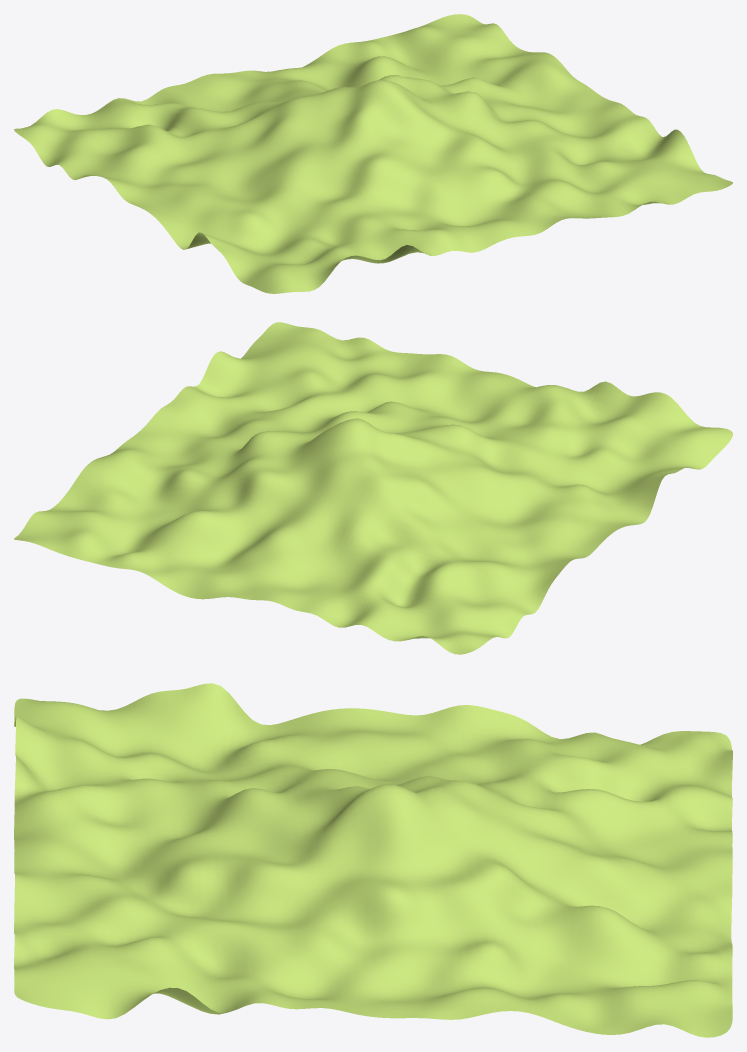
Rendered from Wiese Erster Versuch.fbx_Collection.fbx.
The picture shows the model from 3 angles, top to bottom: view 1: azimuth 30°, elevation 25°; view 2: azimuth 150°, elevation 25°; view 3: azimuth 270°, elevation 25°; orthographic projection. The views are drawn at different scales.
Visible parts, largest first — view 1: Plane; view 2: Plane; view 3: Plane.
Boxes of the visible parts, x1,y1,x2,y2 form: Plane: [14, 14, 732, 293]; Plane: [14, 322, 732, 654]; Plane: [14, 683, 732, 1037].
Size of the model in its own units: 1000 by 189 by 1000.
